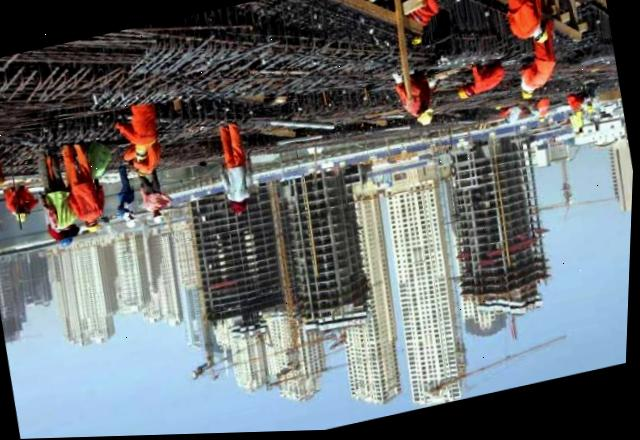helmet: (415, 108, 438, 130), (11, 208, 34, 226), (533, 31, 552, 48), (134, 148, 154, 164), (456, 85, 472, 105), (151, 213, 170, 226), (61, 235, 77, 249), (87, 221, 103, 234), (129, 218, 142, 230), (578, 133, 589, 145), (521, 94, 532, 104), (0, 175, 6, 191), (539, 119, 545, 126)
vest: (50, 187, 80, 227), (89, 141, 120, 178)
